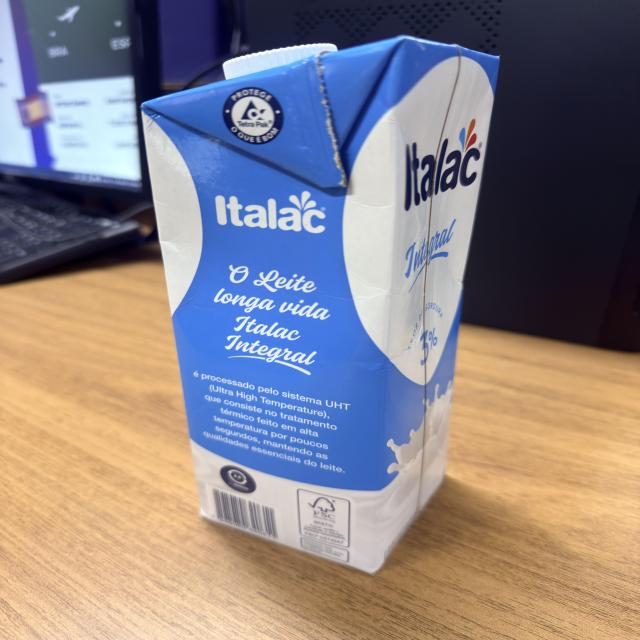Caixa de Leite: (142, 36, 498, 574)
